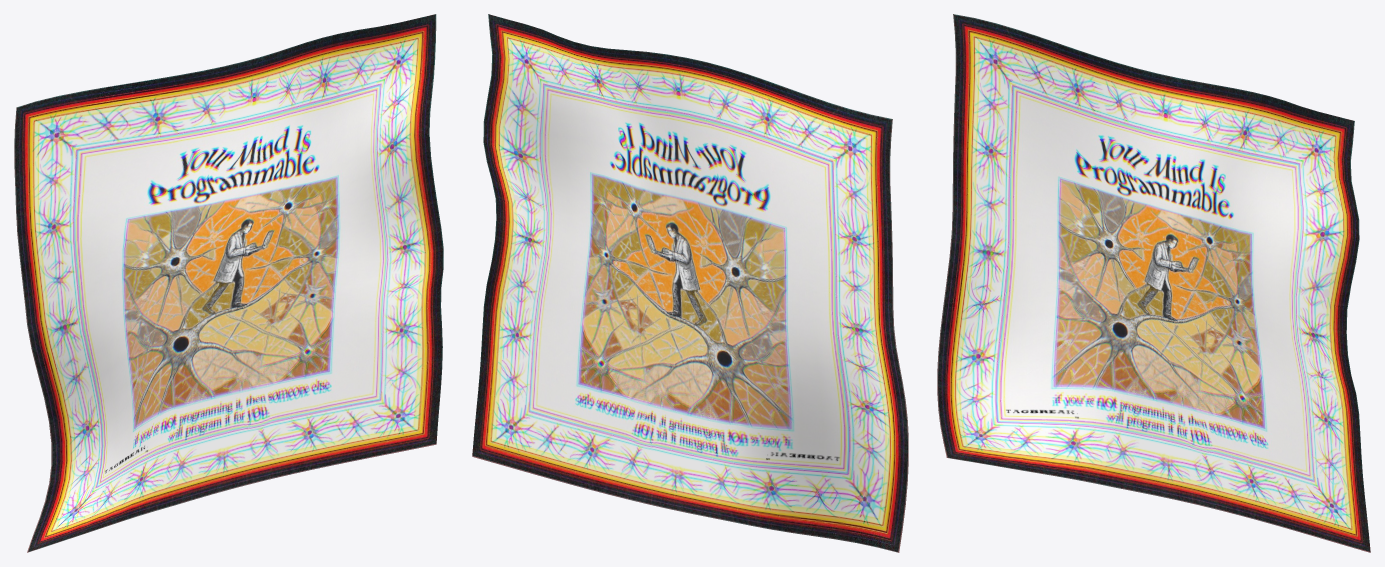
The model's file is arch.glb.
The picture shows the model from 3 angles, left to right: view 1: azimuth 30°, elevation 25°; view 2: azimuth 150°, elevation 25°; view 3: azimuth 330°, elevation 25°; orthographic projection.
Visible parts, largest first — view 1: Plane; view 2: Plane; view 3: Plane.
Part boxes in pixels (box(x1,y1,x2,y2)): Plane: box(14, 14, 443, 552); Plane: box(472, 14, 908, 552); Plane: box(937, 14, 1370, 552).
Size of the model in its own units: 2 by 2.01 by 0.2616.
Materials: 1 (1 with a texture image).
